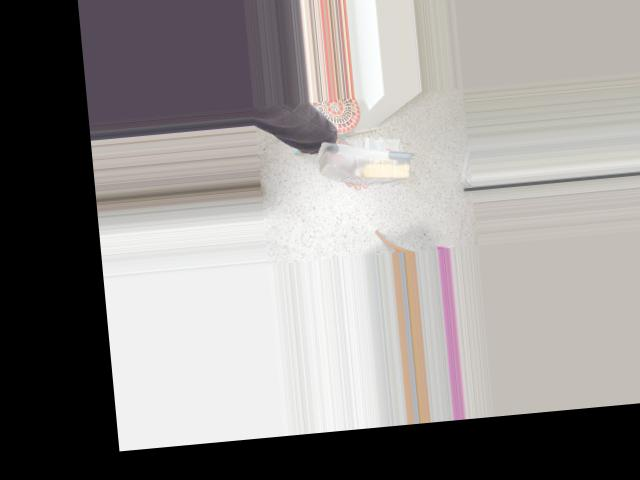cheese: (312, 131, 414, 191)
